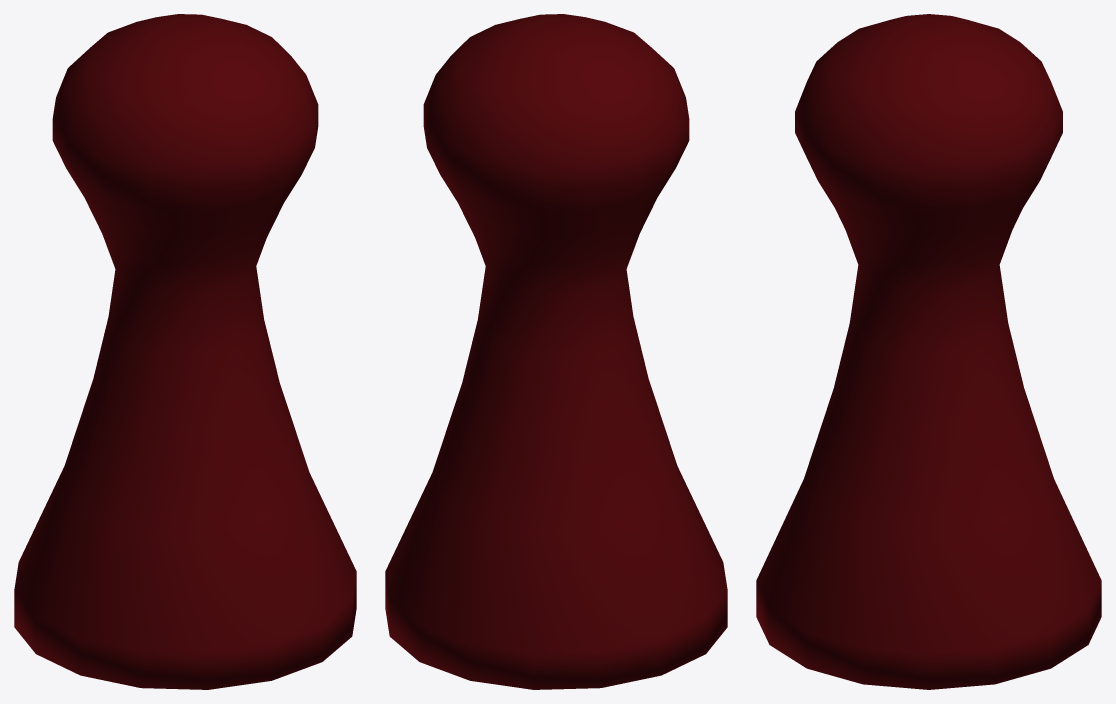
File: dark_red.glb
3 views of the same model, side by side, from view 1: azimuth 30°, elevation 25°; view 2: azimuth 150°, elevation 25°; view 3: azimuth 270°, elevation 25° (orthographic).
Visible parts, largest first — view 1: RedGameFigure2; view 2: RedGameFigure2; view 3: RedGameFigure2.
Boxes of the visible parts, left/top/right/bottom form: RedGameFigure2: left=14, top=14, right=356, bottom=689; RedGameFigure2: left=385, top=14, right=727, bottom=689; RedGameFigure2: left=756, top=14, right=1101, bottom=689.
Bounding box in the file's own units: 2.27 × 4.25 × 2.27.
